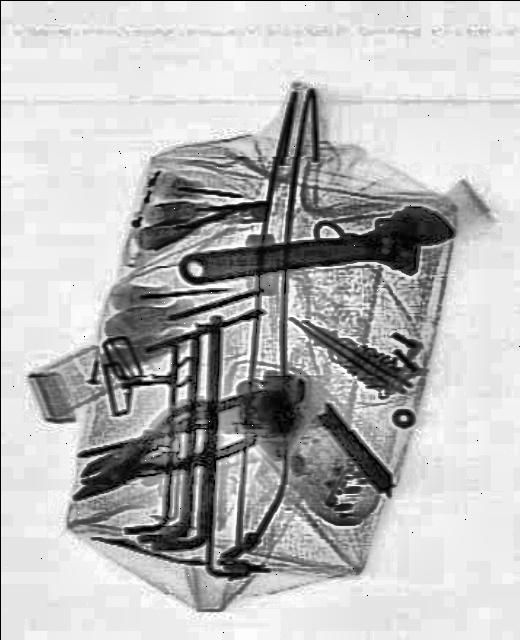Pliers: (57, 384, 235, 526), (70, 388, 262, 504)
Wrench: (171, 196, 456, 300)
